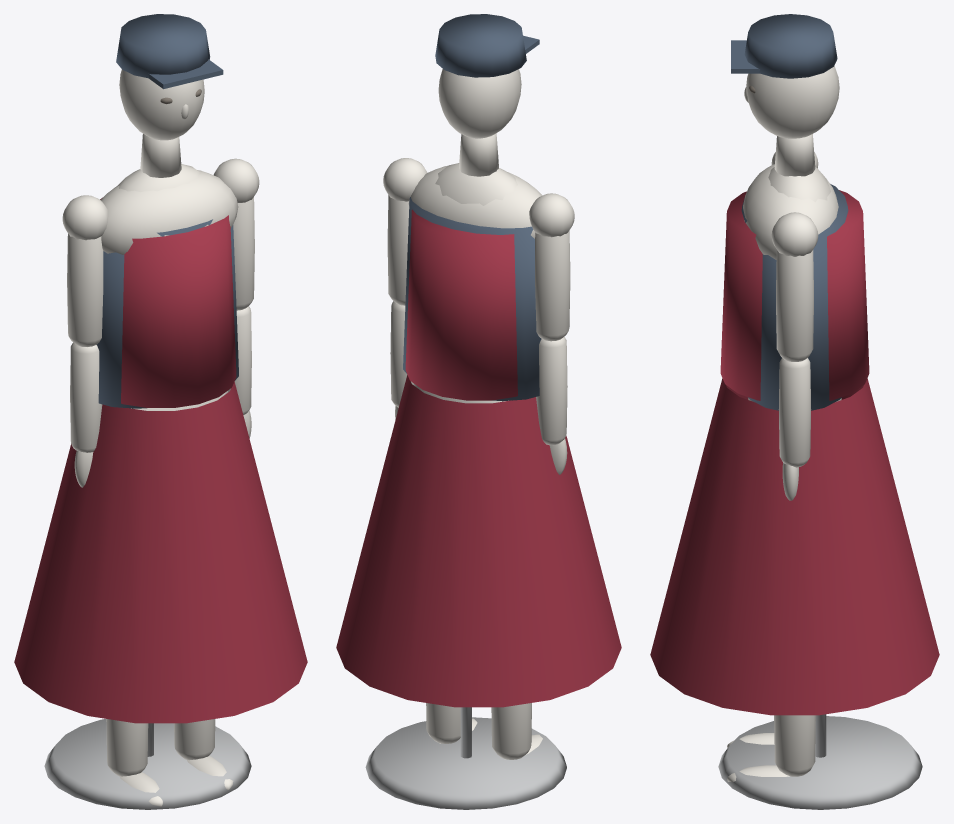
Rendered from mannequin.glb.
The picture shows the model from 3 angles, left to right: view 1: azimuth 30°, elevation 25°; view 2: azimuth 150°, elevation 25°; view 3: azimuth 270°, elevation 25°; orthographic projection. The views are drawn at different scales.
Parts seen in each view (by area): view 1: skirt, bodice, base, chest, cap_mesh, shirt, skull, upper_arm.001, forearm.001, shin.001, upper_arm, shoulder.001 (+8 smaller); view 2: skirt, bodice, base, shirt, cap_mesh, skull, chest, upper_arm.001, forearm.001, torso, shin.001, upper_arm (+6 smaller); view 3: skirt, bodice, base, shirt, cap_mesh, skull, upper_arm, chest, forearm, shin, shoulder, neck_mesh (+2 smaller).
Part boxes in pixels (box(x1,y1,x2,y2)): skirt: box(14, 382, 307, 723); bodice: box(100, 197, 236, 407); base: box(44, 719, 251, 809); chest: box(101, 170, 238, 254); cap_mesh: box(116, 14, 210, 78); shirt: box(96, 219, 238, 408); skull: box(119, 69, 204, 140); upper_arm.001: box(67, 233, 103, 346); forearm.001: box(70, 342, 102, 452); shin.001: box(106, 719, 148, 776); upper_arm: box(233, 197, 254, 310); shoulder.001: box(62, 195, 108, 240); skirt: box(336, 375, 621, 707); bodice: box(405, 209, 517, 400); base: box(365, 717, 566, 809); shirt: box(403, 197, 541, 401); cap_mesh: box(435, 14, 526, 77); skull: box(438, 69, 521, 138); chest: box(408, 165, 542, 238); upper_arm.001: box(535, 230, 570, 341); forearm.001: box(536, 336, 567, 445); torso: box(435, 163, 517, 205); shin.001: box(491, 703, 531, 759); upper_arm: box(387, 195, 409, 305); skirt: box(650, 378, 939, 715); bodice: box(720, 190, 869, 400); base: box(718, 716, 922, 809); shirt: box(741, 184, 848, 410); cap_mesh: box(744, 14, 837, 78); skull: box(746, 66, 839, 138); upper_arm: box(776, 250, 813, 361); chest: box(743, 164, 838, 259); forearm: box(778, 358, 811, 467); shin: box(774, 715, 815, 776); shoulder: box(771, 212, 818, 256); neck_mesh: box(774, 134, 815, 176).
Bounding box in the file's own units: 0.6697 × 1.93 × 0.68.
